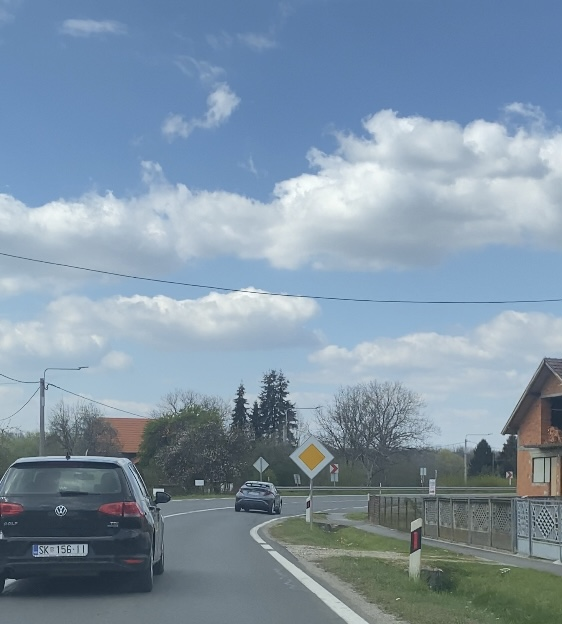Cesta s prednošću prolaska: (288, 434, 335, 480)
